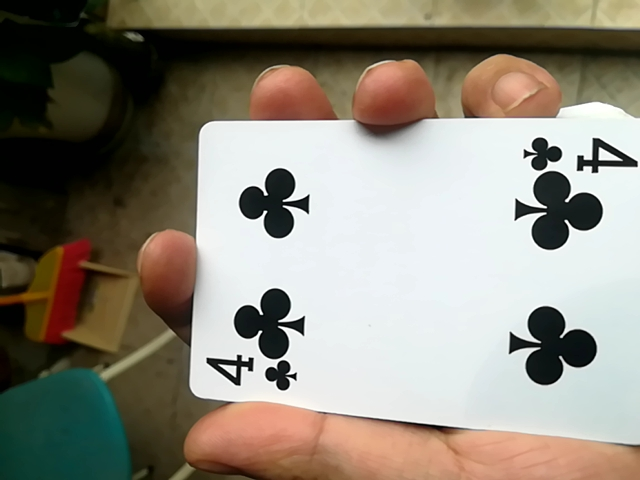mh 4: (167, 116, 638, 447)
